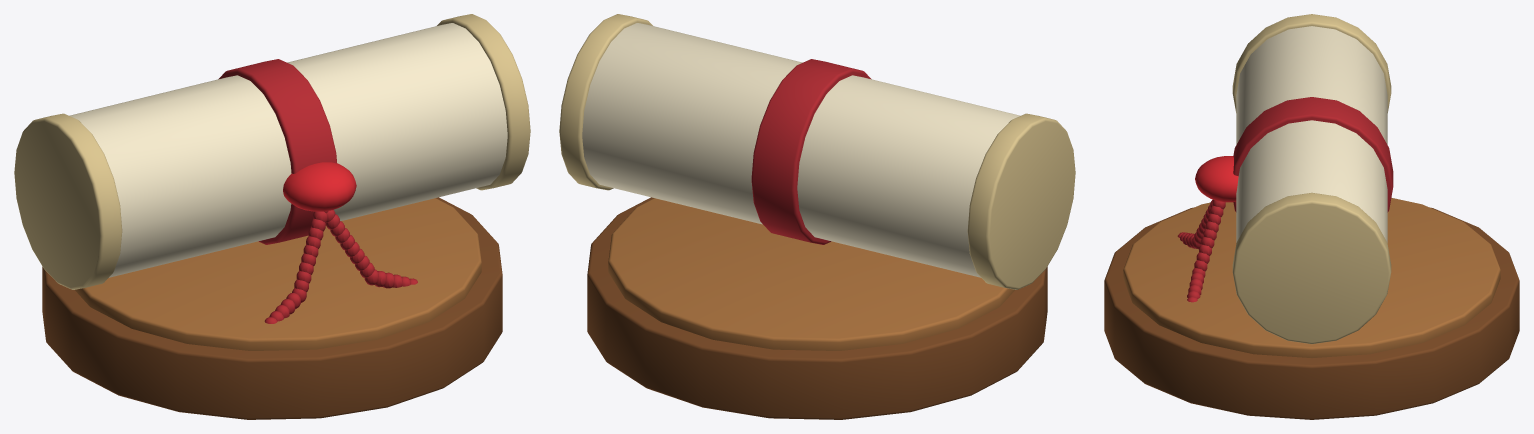
The model's file is scroll.glb.
3 views of the same model, side by side, from view 1: azimuth 30°, elevation 25°; view 2: azimuth 150°, elevation 25°; view 3: azimuth 270°, elevation 25° (orthographic). The views are drawn at different scales.
Visible parts, largest first — view 1: scroll; view 2: scroll; view 3: scroll.
Part boxes in pixels (x1,y1,x2,y2): scroll: (14,14,530,419); scroll: (559,14,1075,419); scroll: (1104,14,1519,419).
Size of the model in its own units: 1.18 by 0.665 by 1.1.
